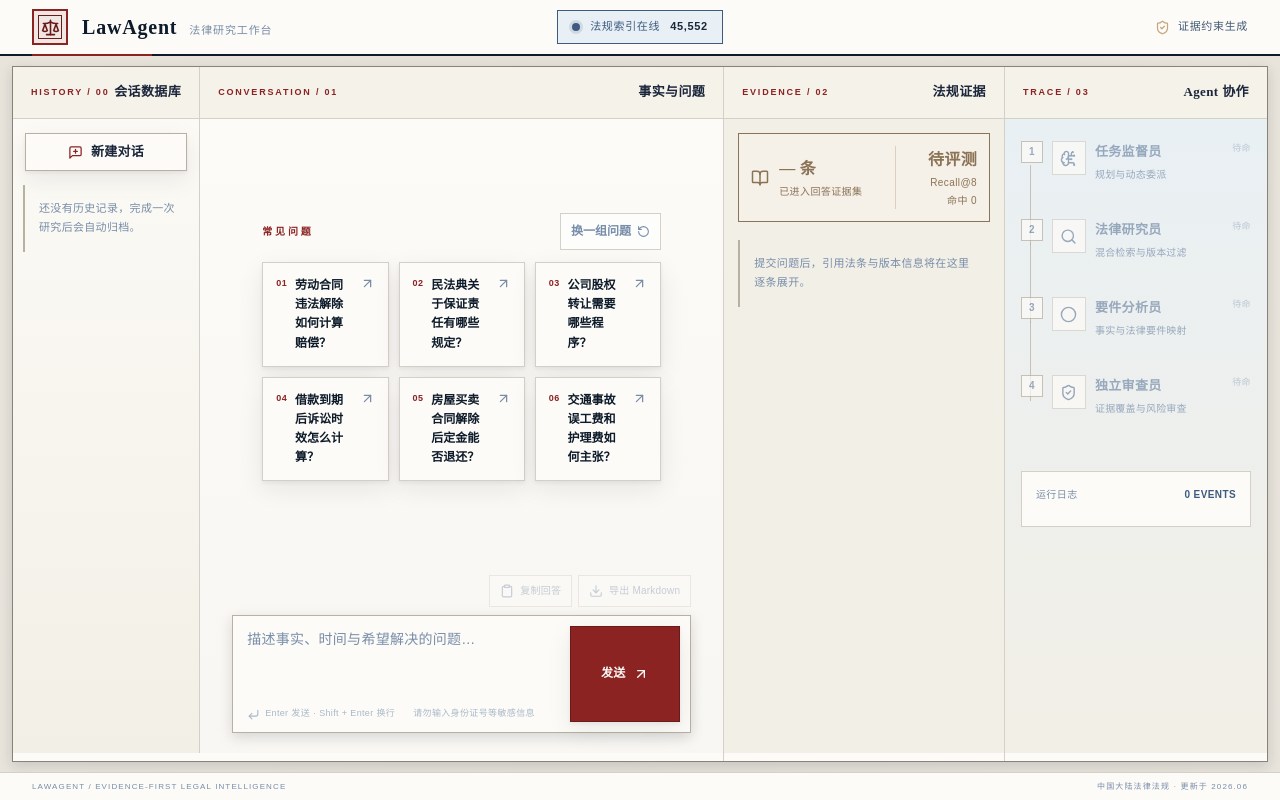
LegalWorkspace › shows a recoverable error when the API fails
Type "劳动合同解除有什么规定？" into the text box with placeholder "描述事实、时间与希望解决的问题…" at coordinates (404, 663), box [247,628,560,697]
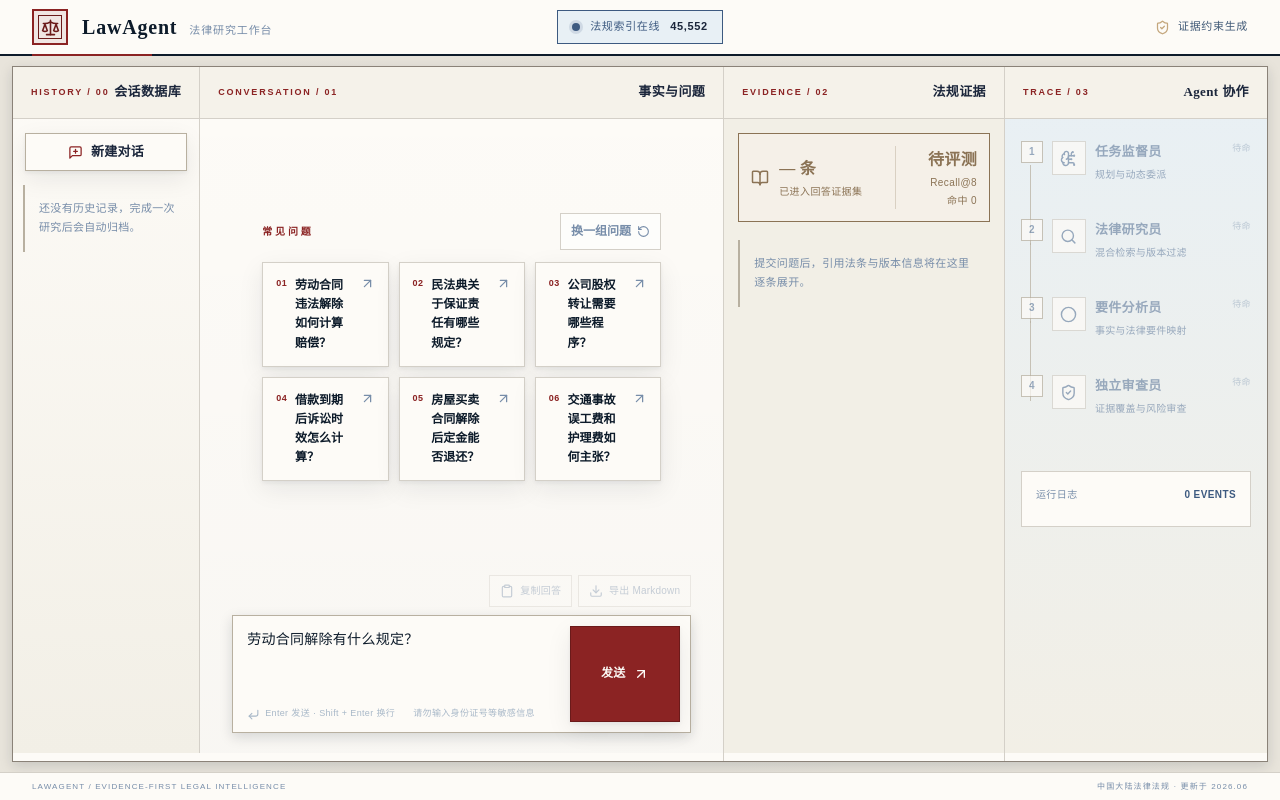
Click the button "发送" at coordinates (625, 674), box [570,626,680,722]
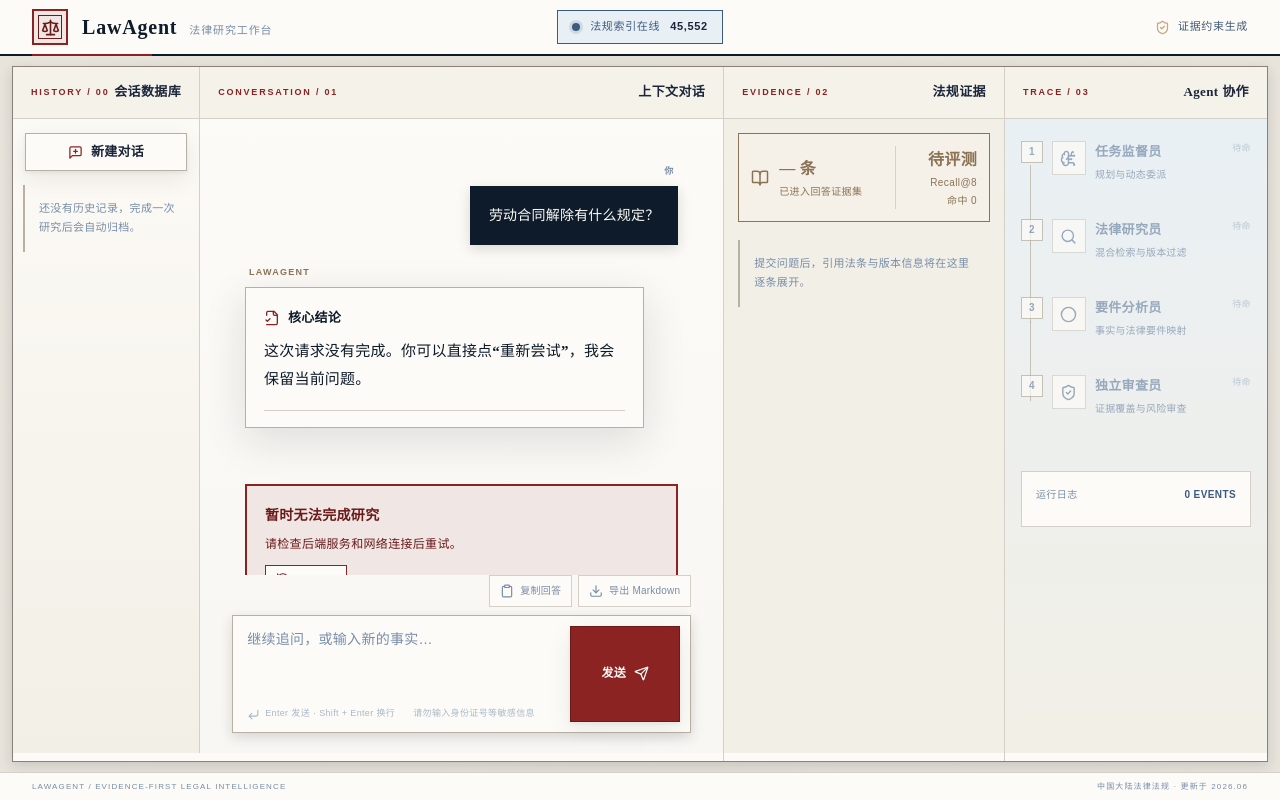
Check: the message shows "暂时无法完成研究", box [265,508,380,523]
